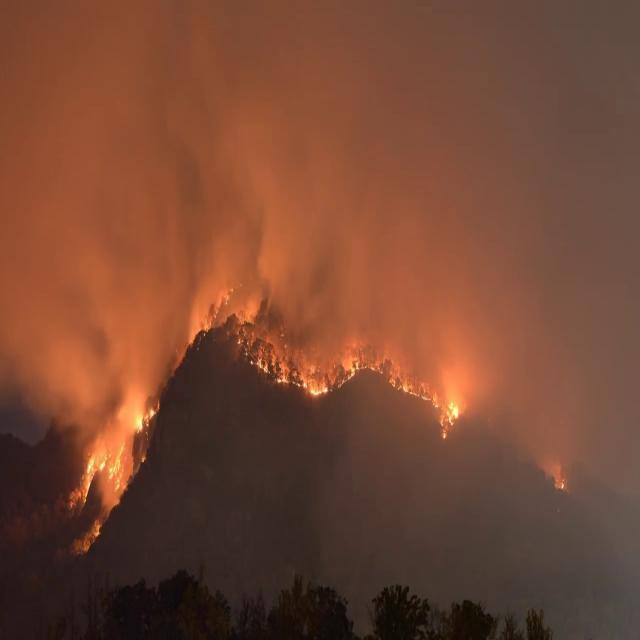Fire: (236, 332, 458, 442), (80, 402, 160, 505)
Smoke: (0, 1, 640, 640)
